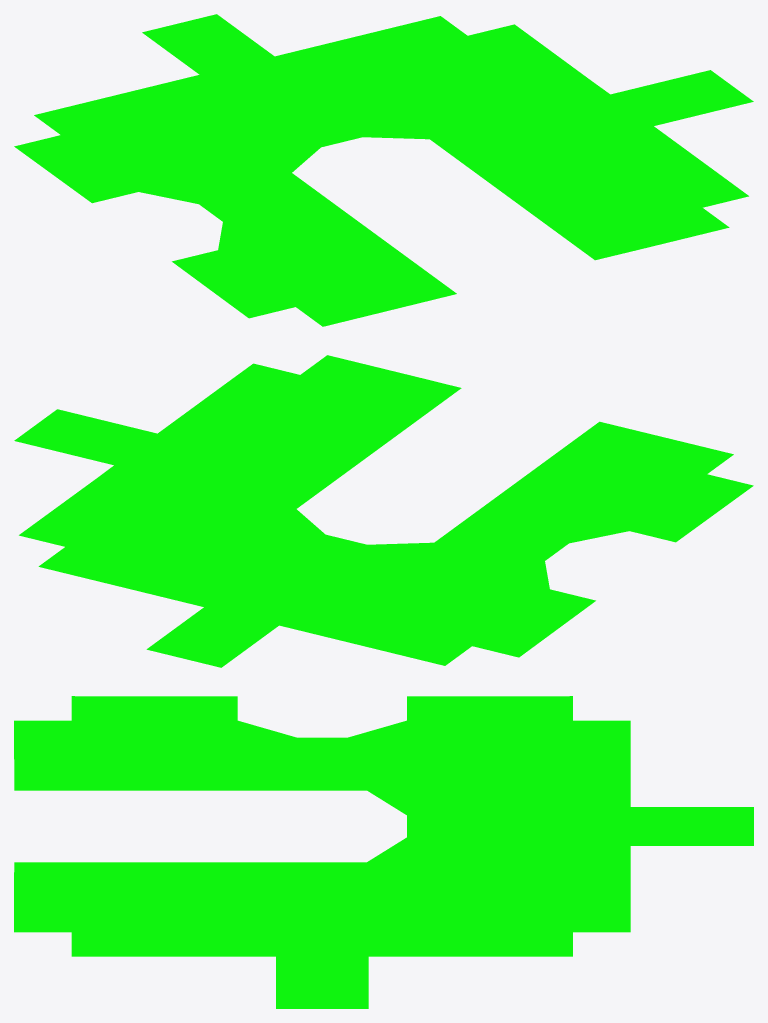
The model's file is s04b_lb3-floor.glb.
3 views of the same model, one above another, from view 1: azimuth 30°, elevation 25°; view 2: azimuth 150°, elevation 25°; view 3: azimuth 270°, elevation 25° (orthographic). The views are drawn at different scales.
Parts seen in each view (by area): view 1: collision_floor-colonly; view 2: collision_floor-colonly; view 3: collision_floor-colonly.
Boxes of the visible parts, bbox=[...] form: collision_floor-colonly: bbox=[14, 14, 753, 326]; collision_floor-colonly: bbox=[14, 355, 753, 667]; collision_floor-colonly: bbox=[14, 696, 753, 1008].
Bounding box in the file's own units: 47.99 × 0 × 48.
